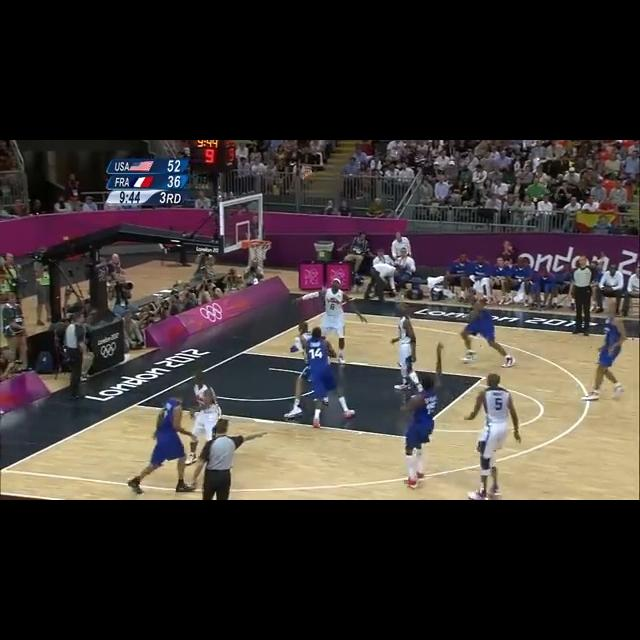hoop: (246, 238, 270, 264)
person: (125, 396, 194, 495), (282, 325, 339, 428), (195, 419, 244, 500), (460, 296, 515, 368), (188, 384, 222, 490), (568, 256, 594, 335), (84, 196, 98, 211)
